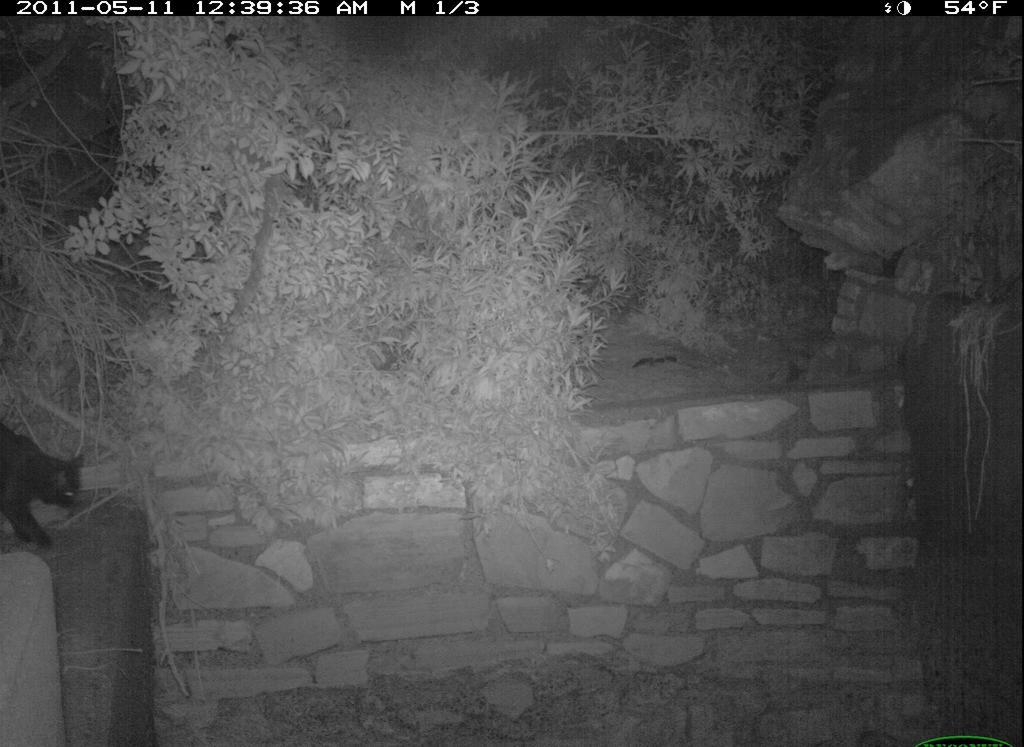cat: (2, 422, 90, 555)
